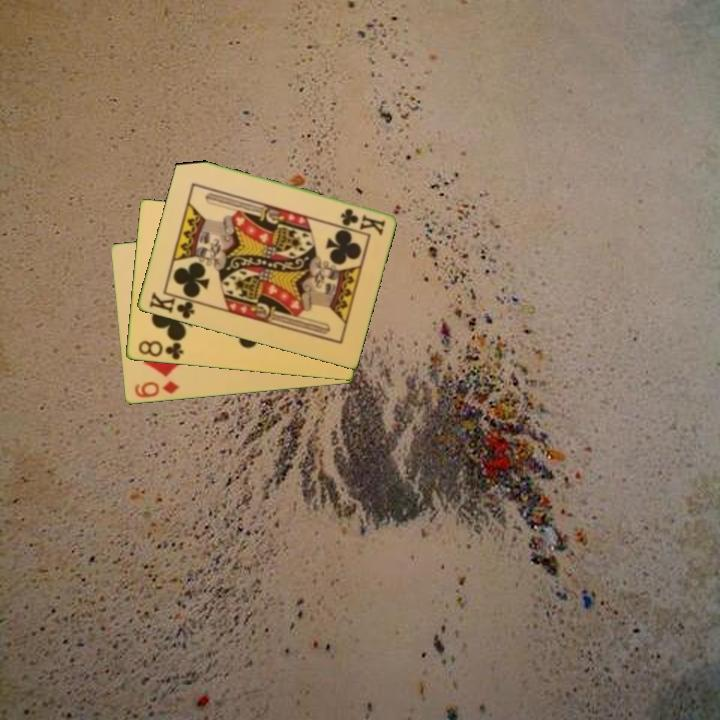6d: (131, 377, 182, 401)
8c: (135, 337, 186, 363)
Kc: (145, 288, 202, 322), (337, 205, 388, 237)
